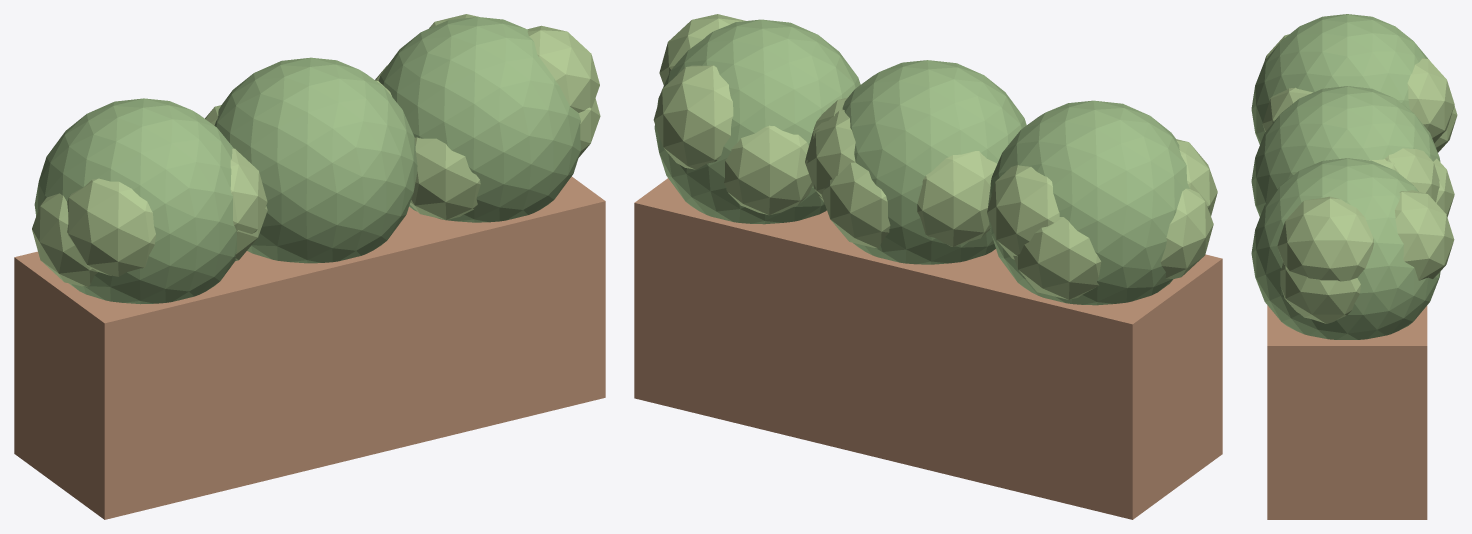
Rendered from planter_box.glb.
The picture shows the model from 3 angles, left to right: view 1: azimuth 30°, elevation 25°; view 2: azimuth 150°, elevation 25°; view 3: azimuth 270°, elevation 25°; orthographic projection. The views are drawn at different scales.
Visible parts, largest first — view 1: planter_box_corten, planter_box_leaf, planter_box_leaf2; view 2: planter_box_corten, planter_box_leaf, planter_box_leaf2; view 3: planter_box_leaf, planter_box_corten, planter_box_leaf2.
Boxes of the visible parts, x1=… form: planter_box_corten: x1=14, y1=176, x2=605, y2=519; planter_box_leaf: x1=34, y1=17, x2=581, y2=304; planter_box_leaf2: x1=32, y1=14, x2=600, y2=287; planter_box_corten: x1=634, y1=178, x2=1222, y2=519; planter_box_leaf: x1=654, y1=19, x2=1189, y2=305; planter_box_leaf2: x1=653, y1=14, x2=1217, y2=299; planter_box_leaf: x1=1251, y1=14, x2=1440, y2=339; planter_box_corten: x1=1267, y1=305, x2=1427, y2=519; planter_box_leaf2: x1=1262, y1=34, x2=1457, y2=323.
Bounding box in the file's own units: 1.75 × 1.1 × 0.6442.
